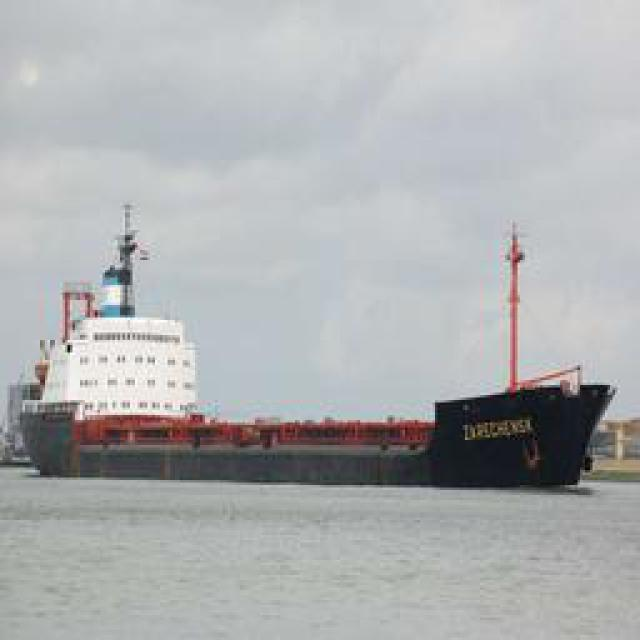Ship: (18, 201, 446, 484)
